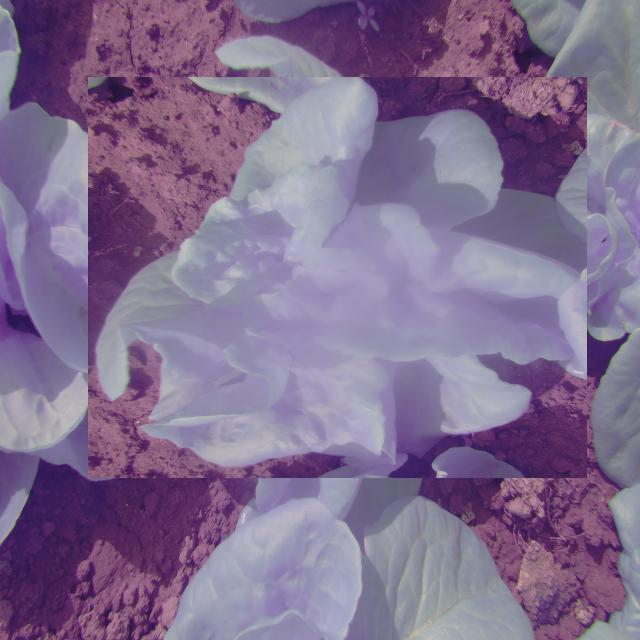vege: (113, 52, 563, 503)
